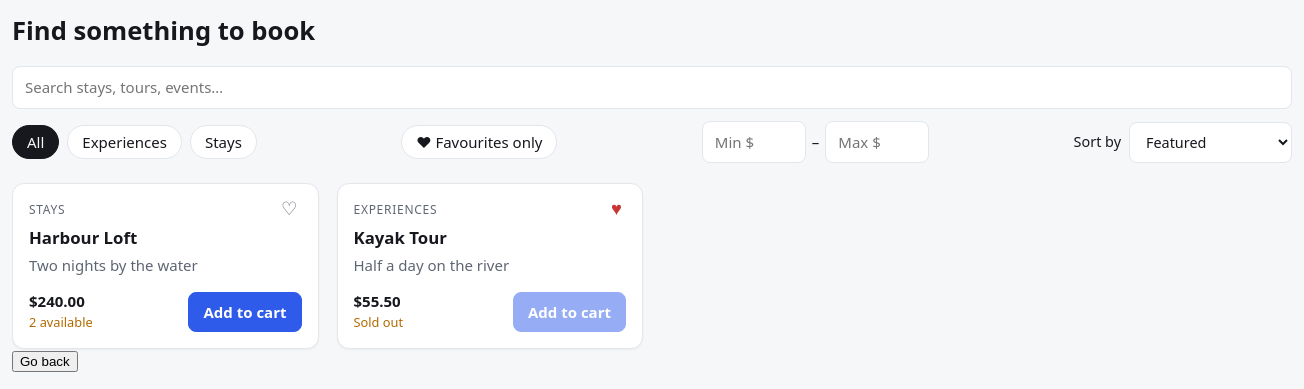
Products page › shows only favourites when the filter is on and keeps it in the URL
The image size is (1304, 389).
Expected: the heading "Harbour Loft" is shown, [29,226,137,249]
Click the button "♥ Favourites only" at (479, 142), box [401,125,558,159]
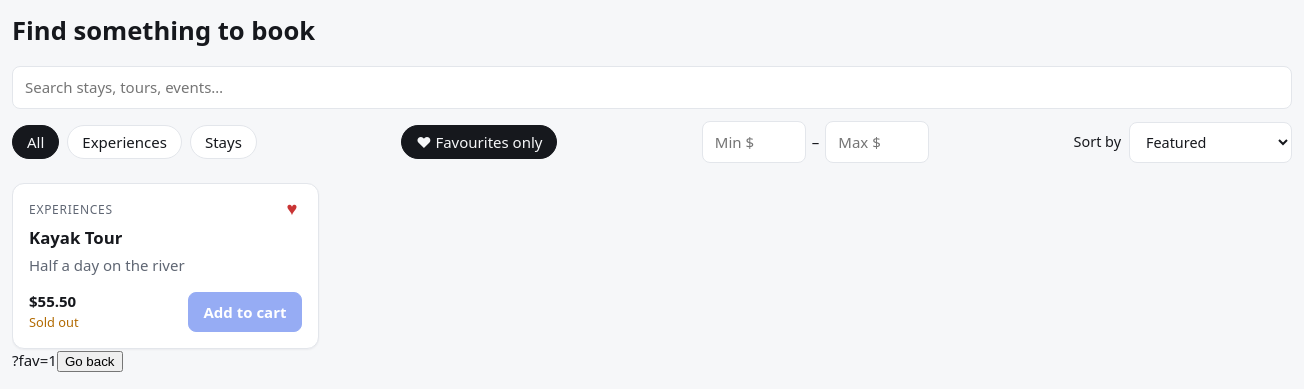
Expected: the heading "Kayak Tour" is shown, [29,226,122,249]
Now the link "Harbour Loft" is gone
Click the button named "Favourite Kayak Tour" at (292, 210), box [283,198,302,221]
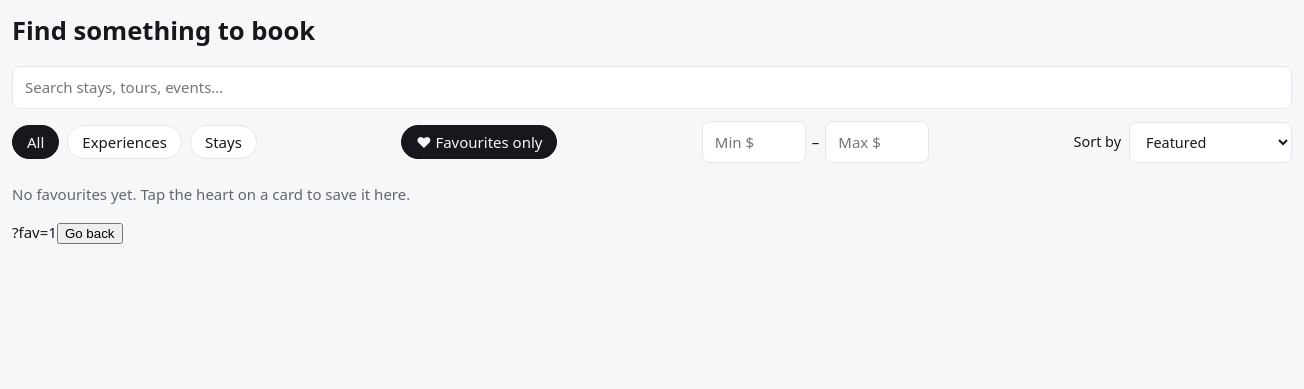
Now the text "No favourites yet. Tap the heart on a card to save it here." is shown, box [12,184,410,204]
Click the button "♥ Favourites only" at (479, 142), box [401,125,558,159]
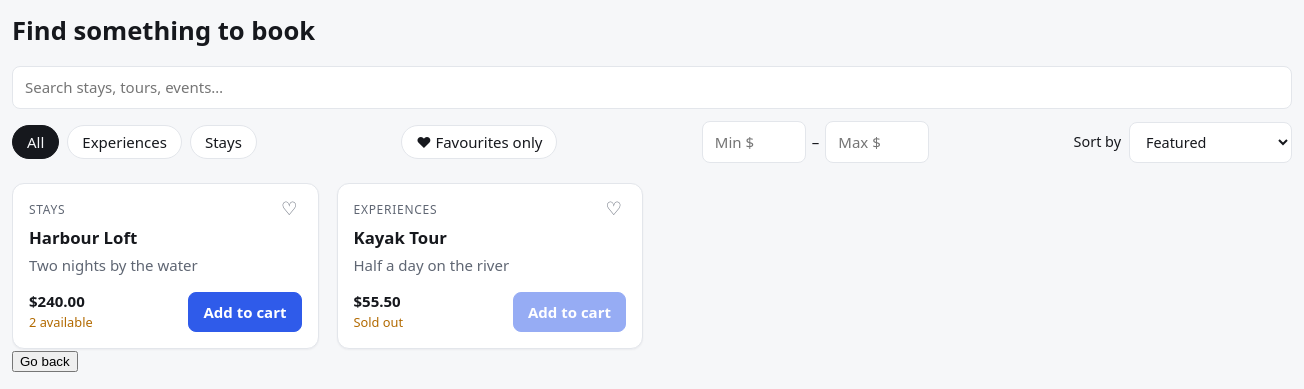
Now the heading "Harbour Loft" is shown, box [29,226,137,249]
